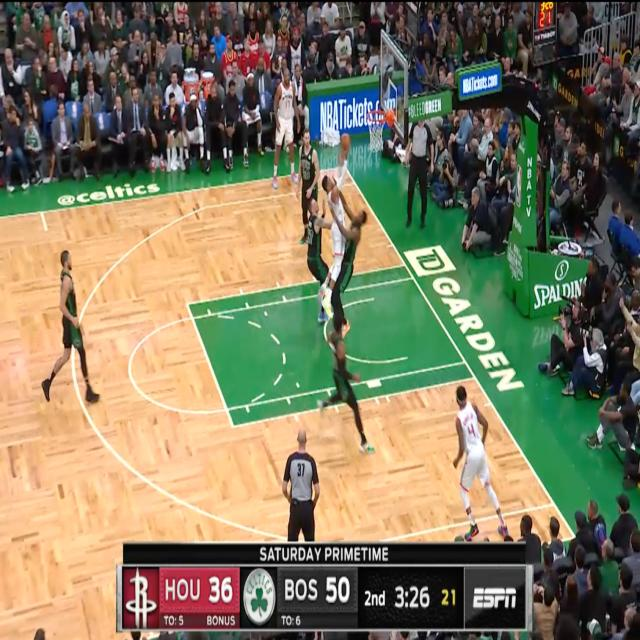Foul: (327, 172, 361, 291)
